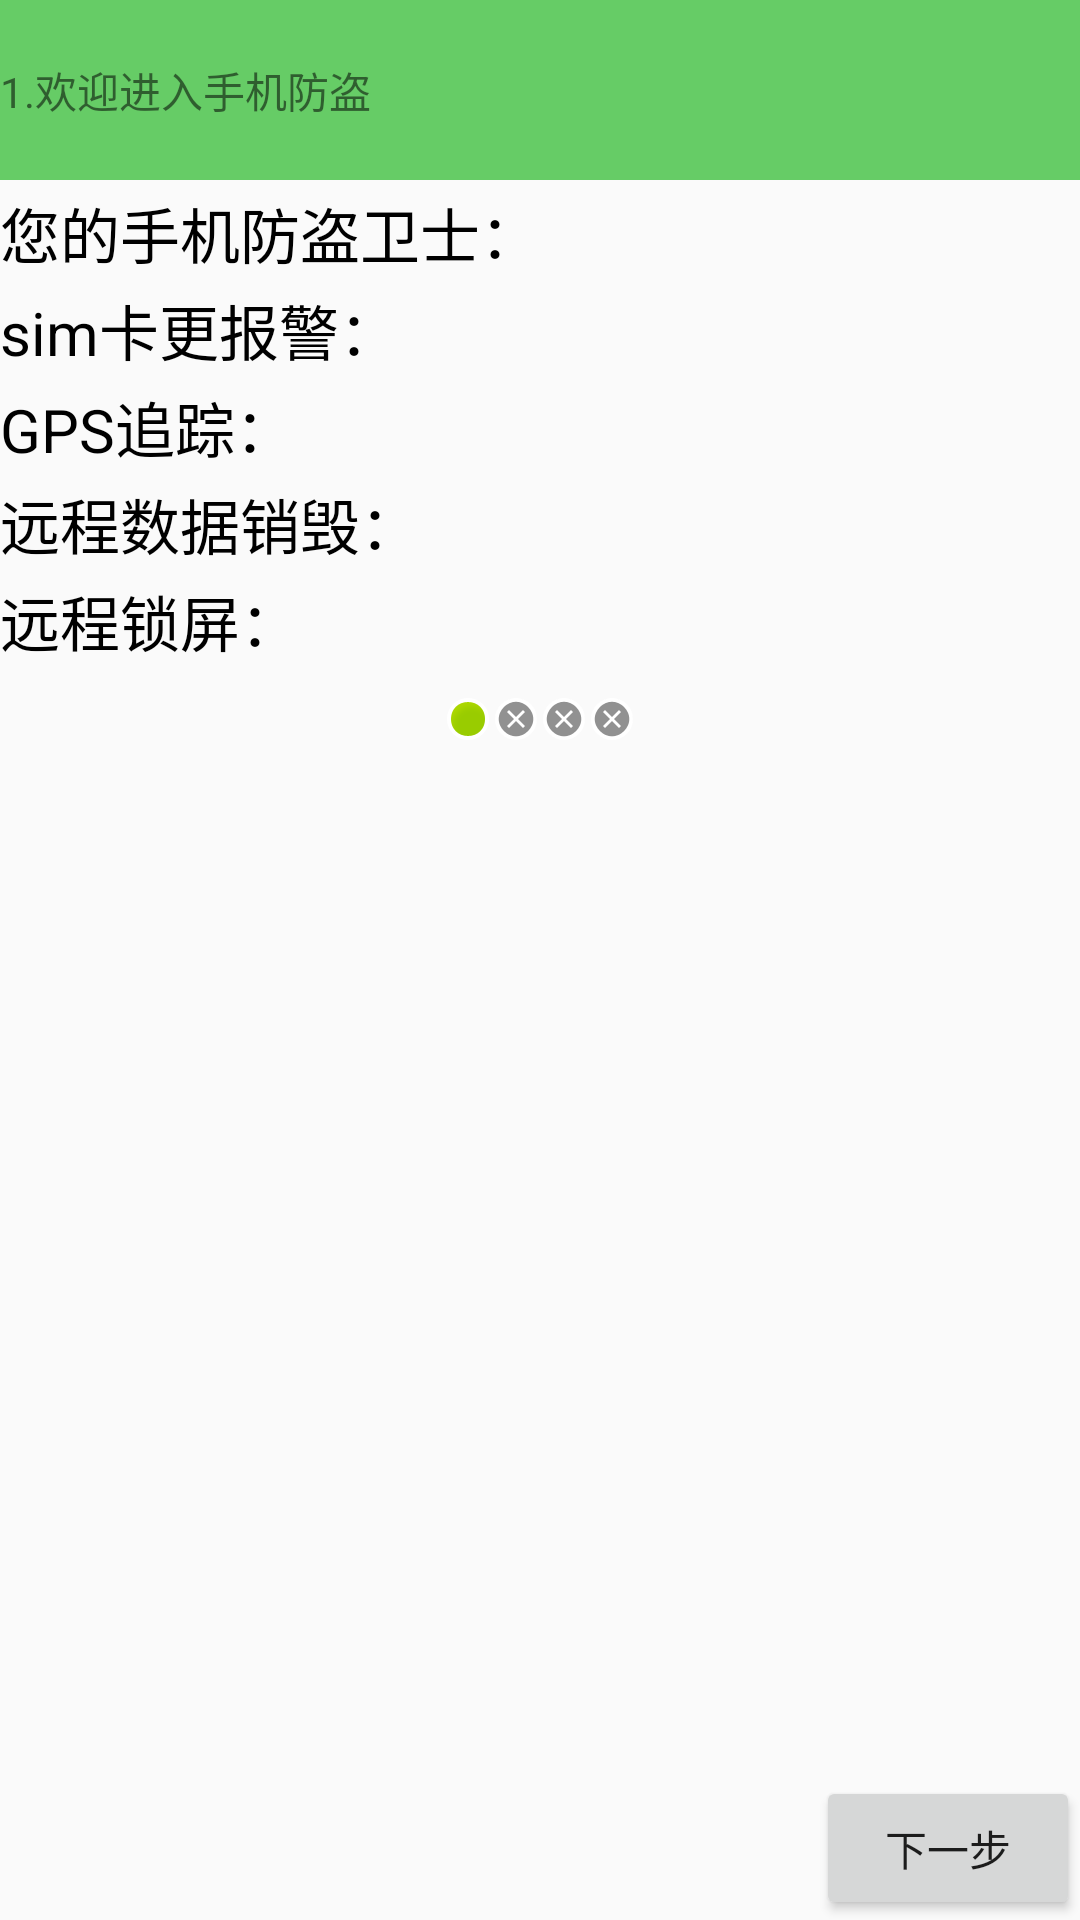

Point at icon controls on the screen. Image size 1080x1920, points as (x=x, y=y).
presence offline: (x=516, y=719), (x=564, y=719), (x=612, y=719)
presence online: (x=468, y=719)
